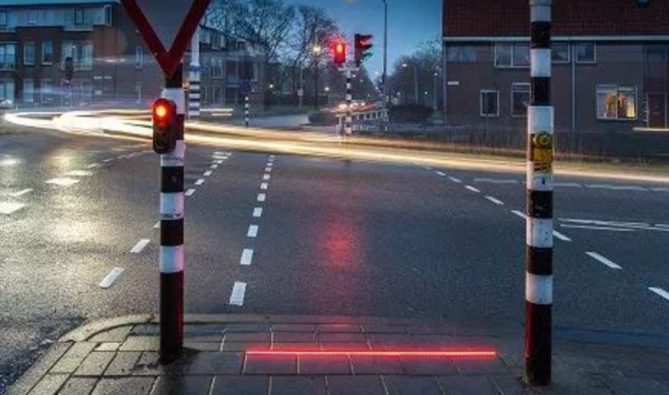Cartel: (120, 1, 203, 77)
Poste: (527, 1, 552, 387), (159, 58, 185, 363)
Semaforo: (149, 97, 177, 154)
